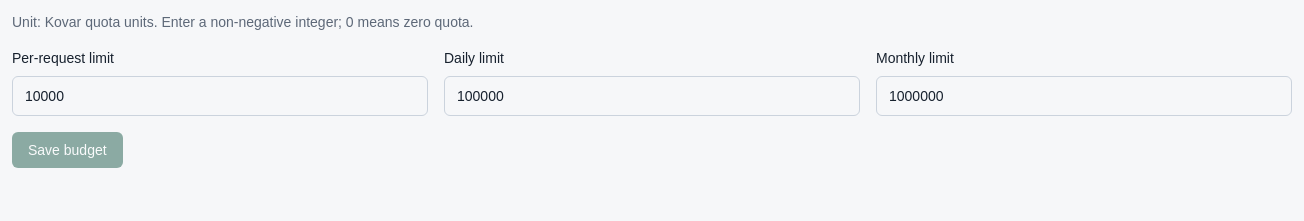
Scenario: Agent management UI › preserves entered budgets when saving fails
This screenshot has width=1304, height=221.
Replace the text in the field labelled "Daily limit" with "123" at [652, 96], box [444, 76, 860, 116]
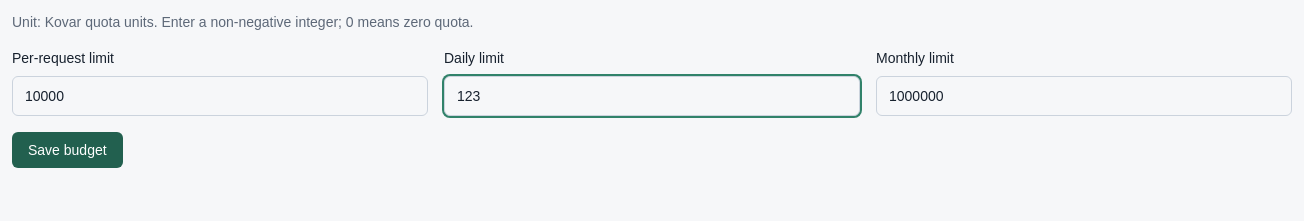
Click the button "Save budget".
click(67, 150)  # box [12, 132, 123, 168]
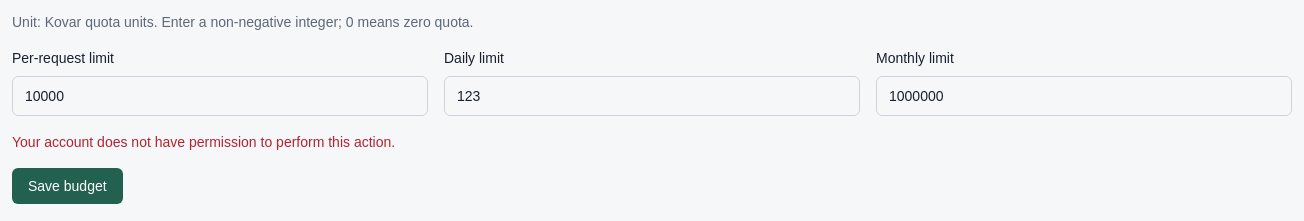
Result: the message shows "does not have permission" at [12, 134, 395, 150]
